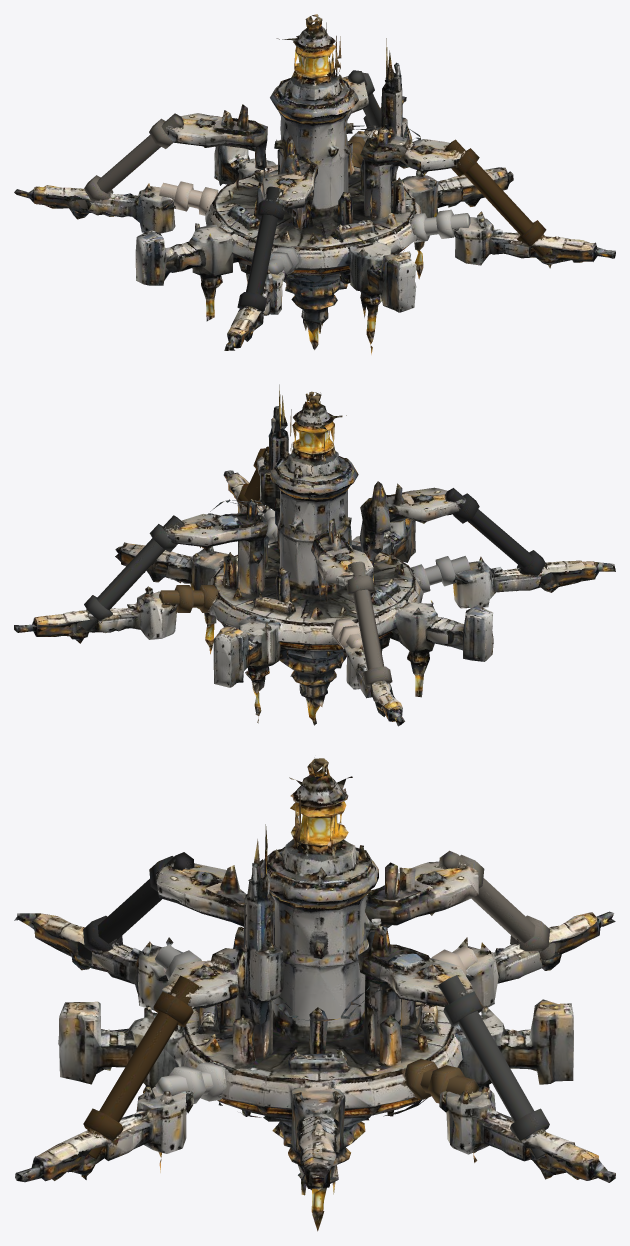
The model's file is st3d_foggiest_greywhistle_lod1.glb.
3 renders of one model, top to bottom at view 1: azimuth 30°, elevation 25°; view 2: azimuth 150°, elevation 25°; view 3: azimuth 270°, elevation 25°, orthographic. The views are drawn at different scales.
Parts seen in each view (by area): view 1: HOMELANCER_Station3D_Foggiest-GreywhistleBeacon_v1; view 2: HOMELANCER_Station3D_Foggiest-GreywhistleBeacon_v1; view 3: HOMELANCER_Station3D_Foggiest-GreywhistleBeacon_v1.
Part boxes in pixels (x1,y1,x2,y2): HOMELANCER_Station3D_Foggiest-GreywhistleBeacon_v1: (14,14,615,354); HOMELANCER_Station3D_Foggiest-GreywhistleBeacon_v1: (14,384,615,726); HOMELANCER_Station3D_Foggiest-GreywhistleBeacon_v1: (14,757,615,1231).
Size of the model in its own units: 0.9815 by 0.7977 by 0.9344.
1 material, 1 textured.
